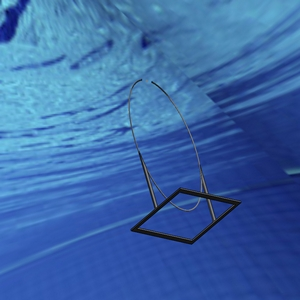circle: (127, 78, 240, 245)
